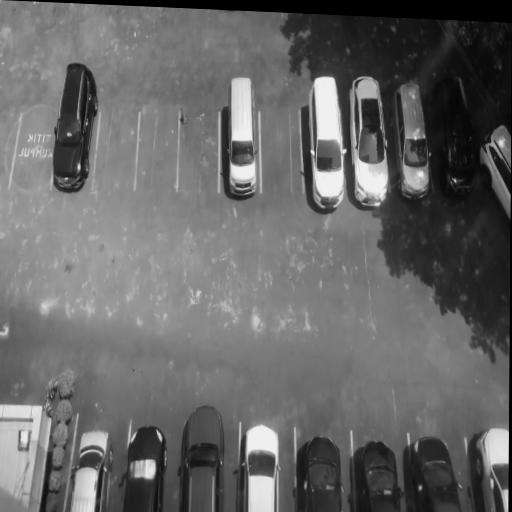Car: (53, 56, 97, 194), (306, 69, 347, 213), (349, 70, 390, 209), (178, 397, 226, 512), (436, 72, 477, 200), (224, 70, 260, 199), (405, 432, 463, 512), (66, 414, 113, 512), (475, 109, 511, 235), (395, 74, 431, 199), (350, 429, 404, 512), (235, 417, 282, 512), (291, 428, 342, 512), (122, 419, 168, 512), (463, 424, 508, 512)
Space Available: (178, 89, 221, 205), (137, 90, 179, 201), (260, 89, 301, 202), (14, 92, 55, 195), (96, 94, 137, 194)
